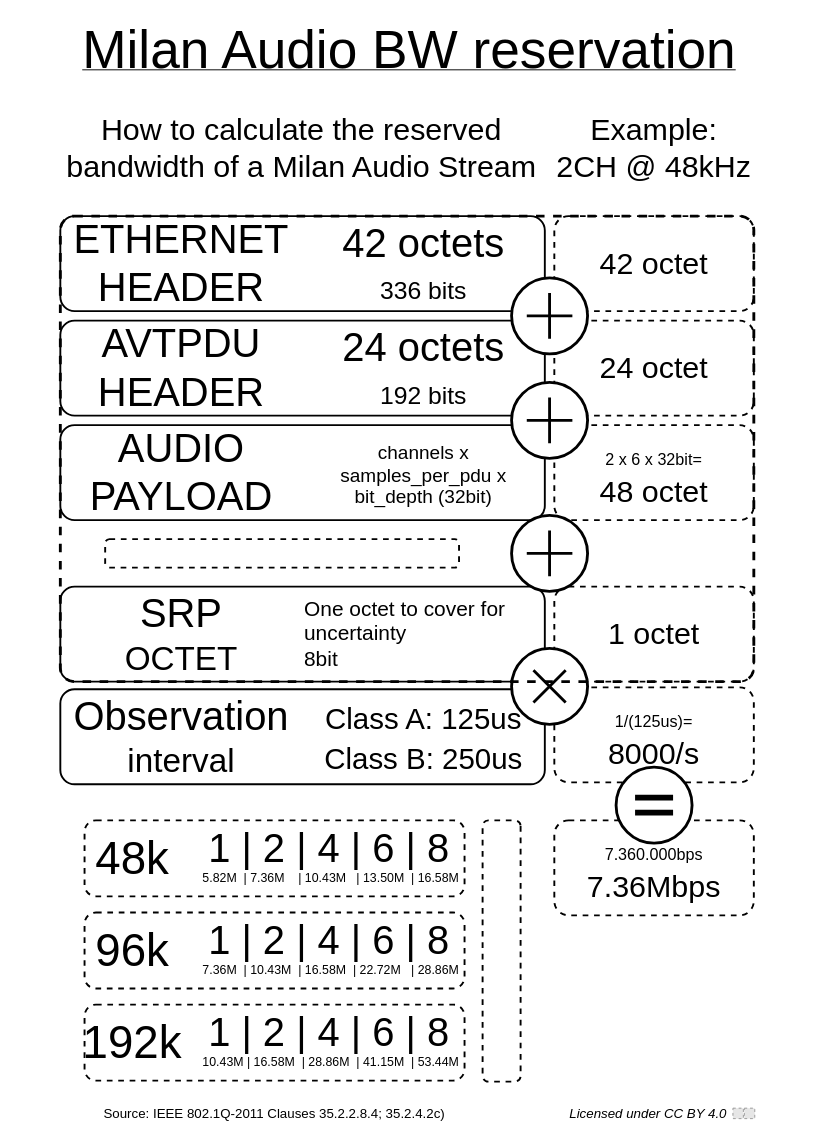
Image size: 818x1144. Some labels were removed from this diagram. Grey dashed boxes stand in for pictures. Here are the shapes that lost their labels. From the top down, the centre of each, then its label:
At point 282,553: "samples_per_pdu: 48kHz: 6 | 96kHz: 12 | 192kHz: 24".
At point 501,950: "CRF: 4.29M".
